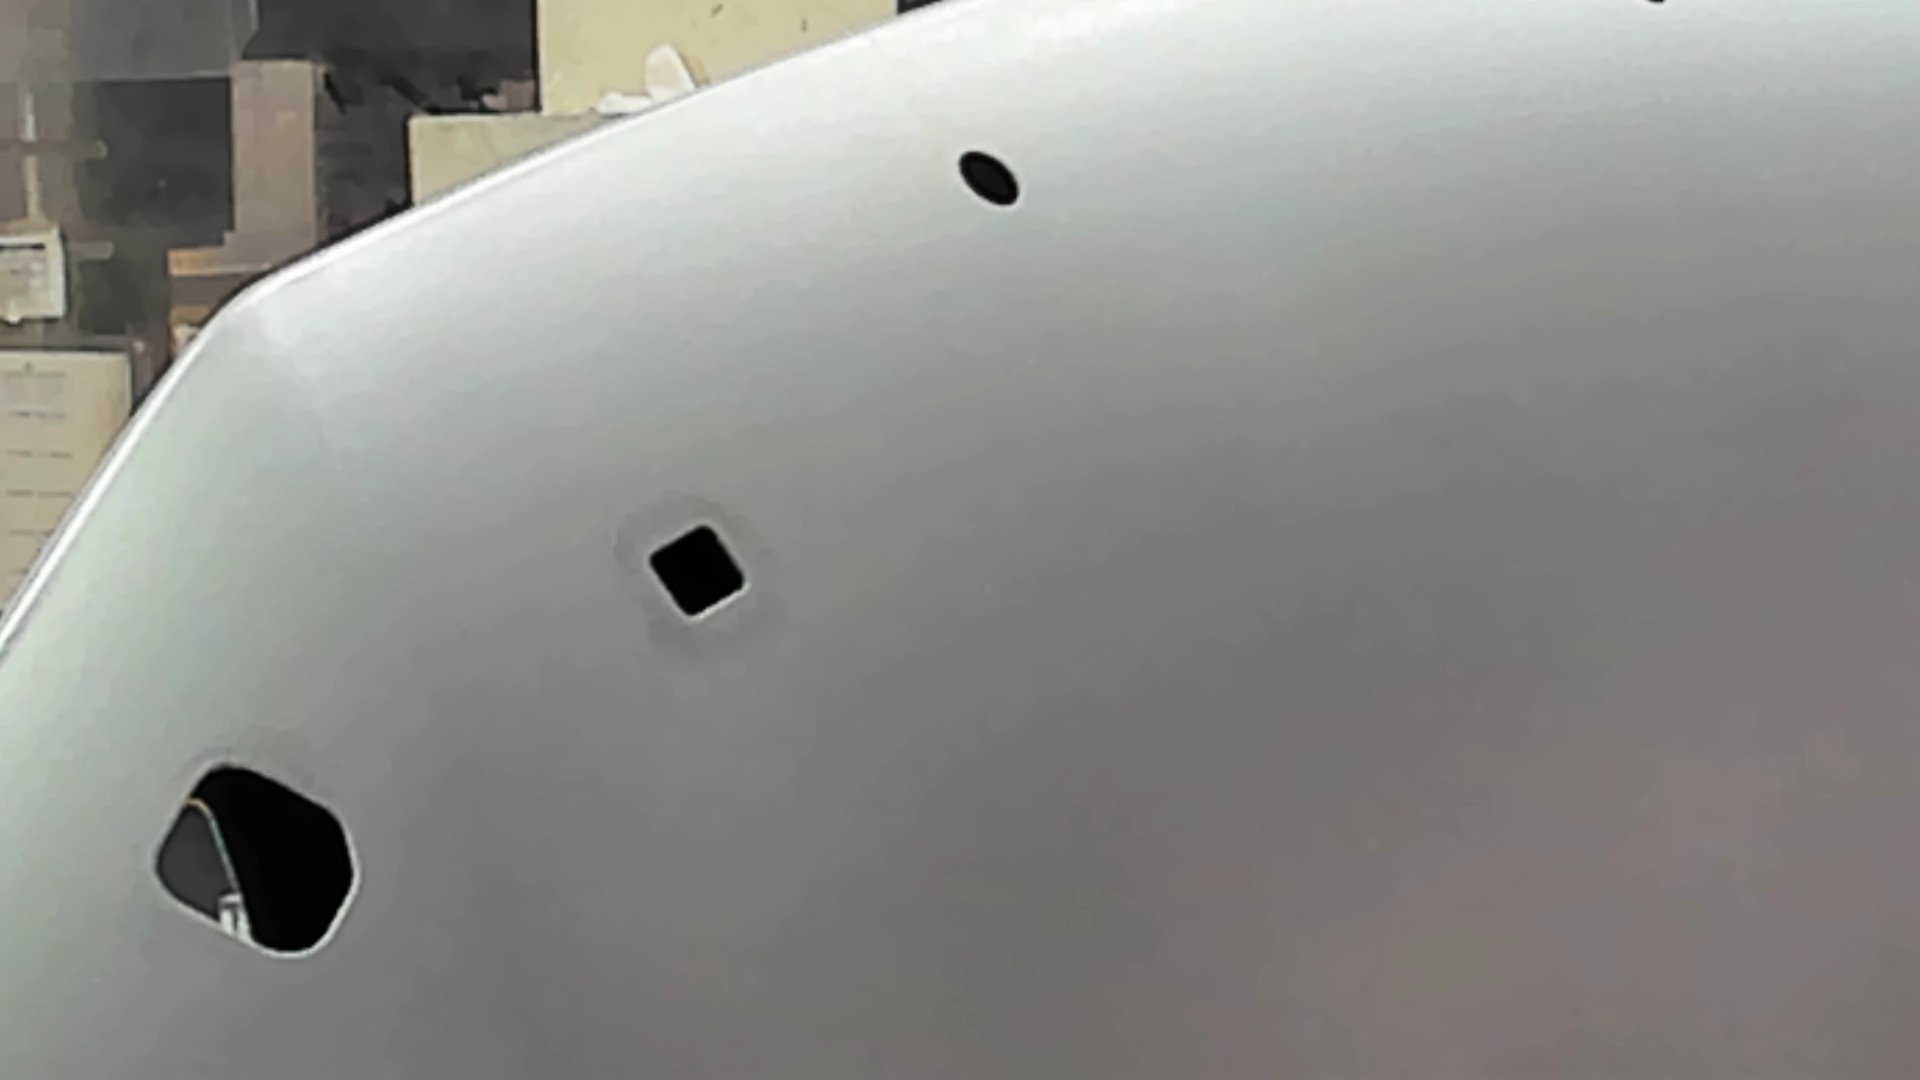chico: (955, 145, 1023, 214)
grande: (146, 760, 367, 963)
mediano: (634, 514, 756, 628)
